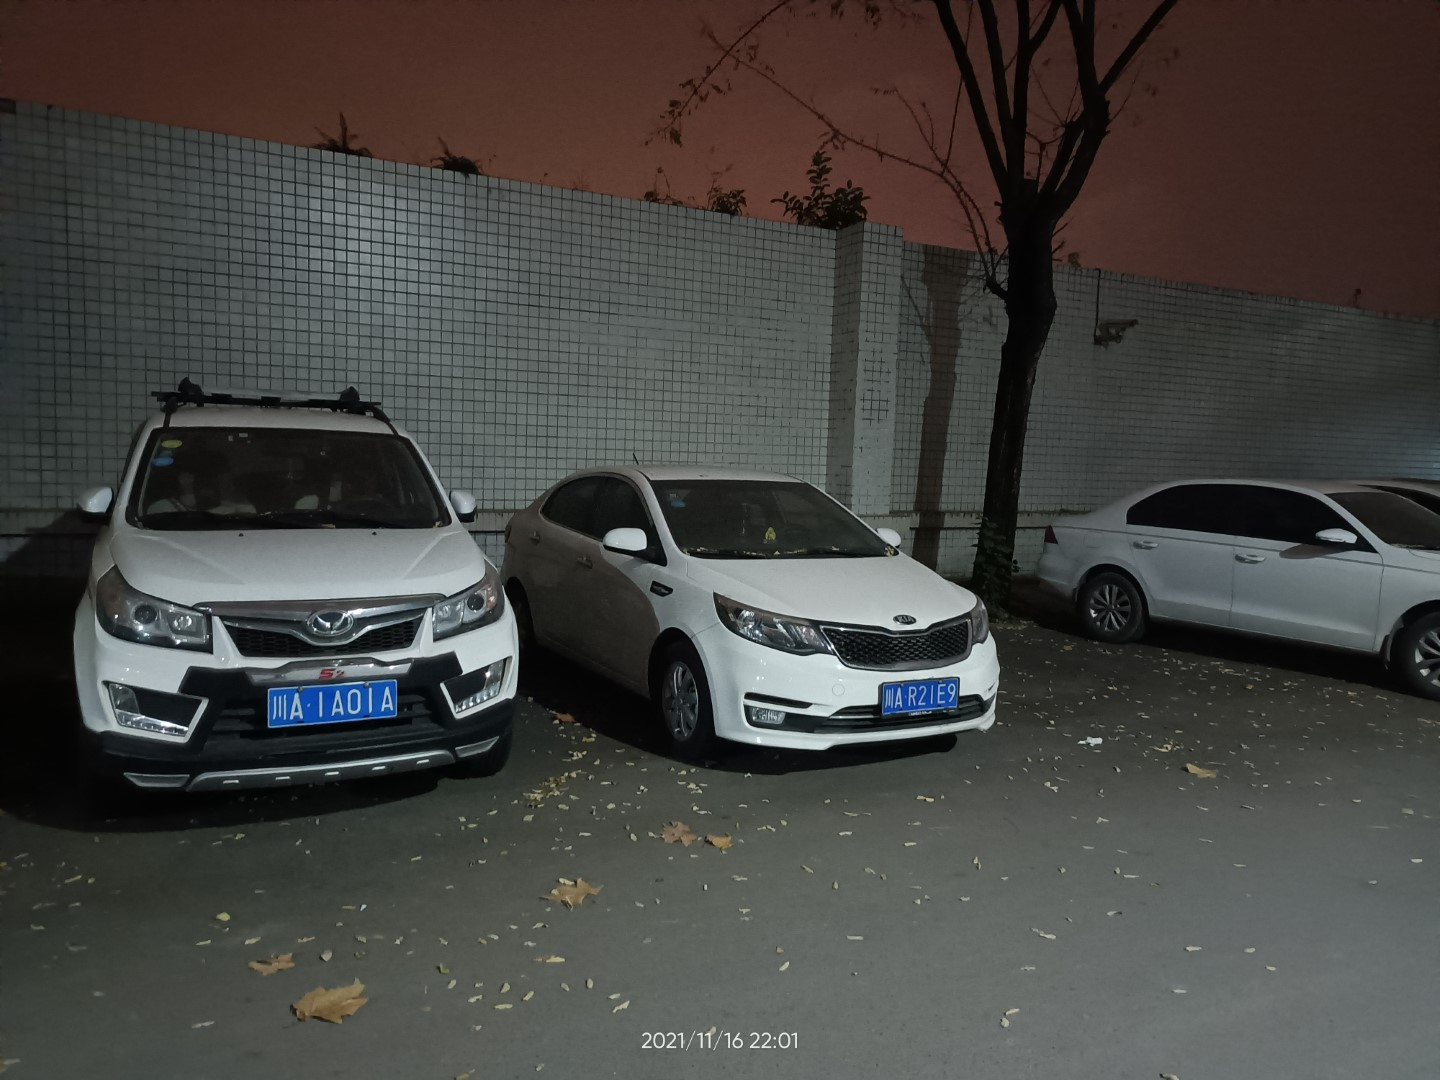plate: (268, 680, 397, 729), (882, 676, 959, 714)
